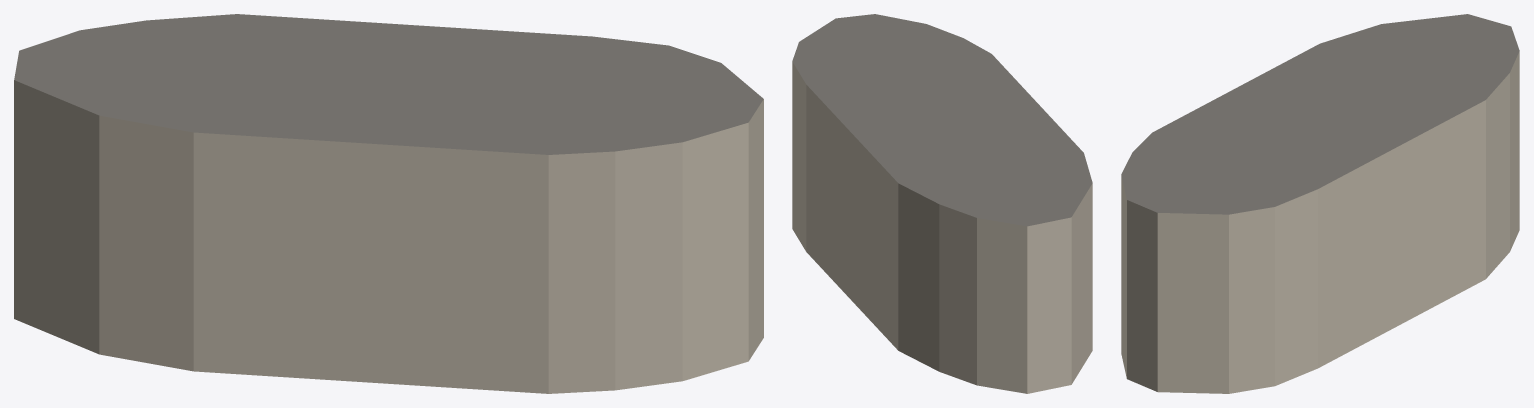
3 views of the same model, side by side, from view 1: azimuth 30°, elevation 25°; view 2: azimuth 150°, elevation 25°; view 3: azimuth 270°, elevation 25° (orthographic). The views are drawn at different scales.
Visible parts, largest first — view 1: HP-w859488782; view 2: HP-w859488782; view 3: HP-w859488782.
Boxes of the visible parts, box(x1,y1,x2,y2) form: HP-w859488782: box(14, 14, 763, 393); HP-w859488782: box(792, 14, 1092, 393); HP-w859488782: box(1121, 14, 1519, 393).
Size of the model in its own units: 43.19 by 18 by 36.24.
